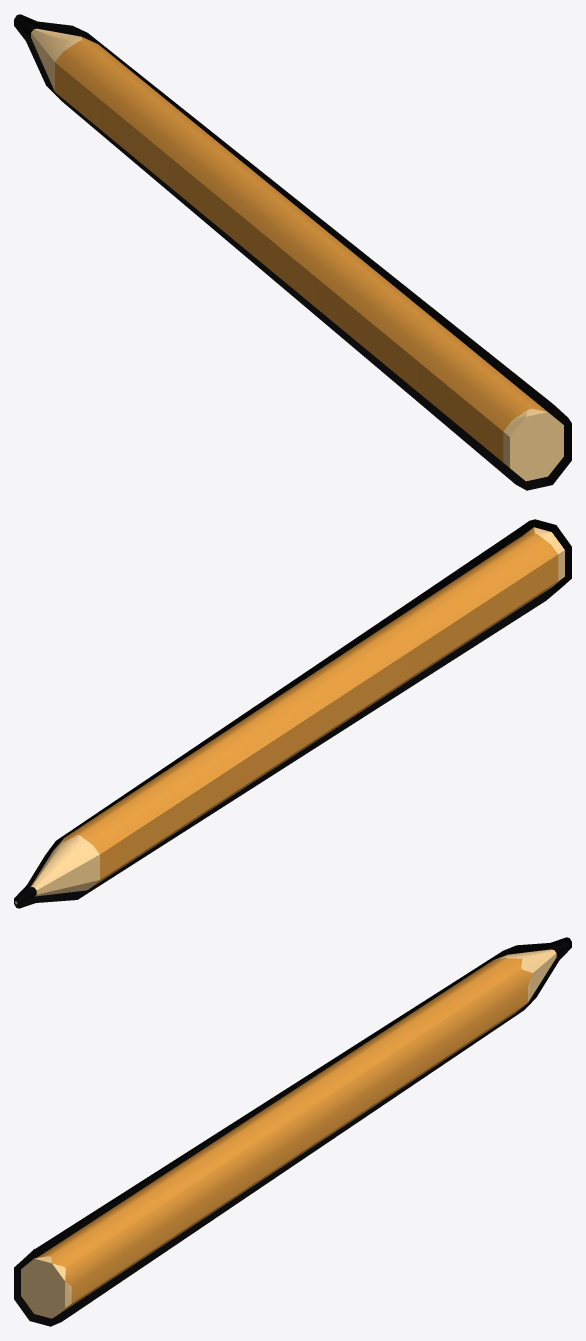
The model's file is Pencil 1.fbx.
3 renders of one model, top to bottom at view 1: azimuth 30°, elevation 25°; view 2: azimuth 150°, elevation 25°; view 3: azimuth 330°, elevation 25°, orthographic. The views are drawn at different scales.
Parts seen in each view (by area): view 1: Cube.027; view 2: Cube.027; view 3: Cube.027.
Boxes of the visible parts, x1,y1,x2,y2 form: Cube.027: (14,14,571,490); Cube.027: (14,519,571,908); Cube.027: (14,937,571,1326).
Bounding box in the file's own units: 2.83 × 2.24 × 28.
